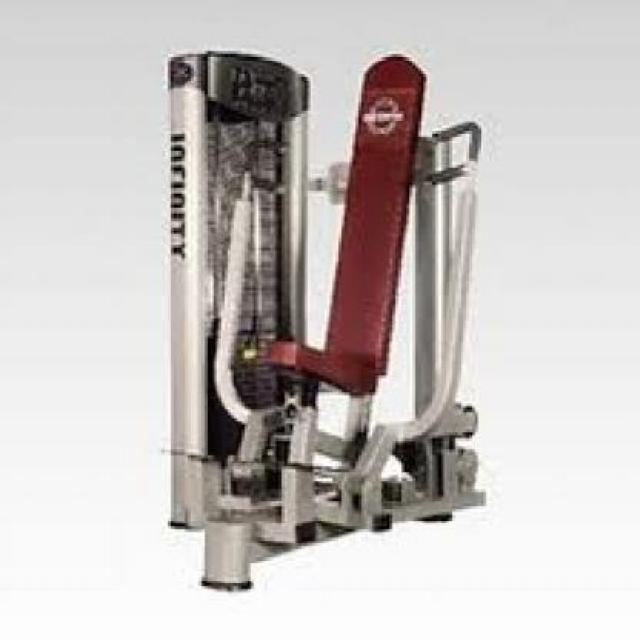Chest Press machine: (162, 39, 509, 598)
